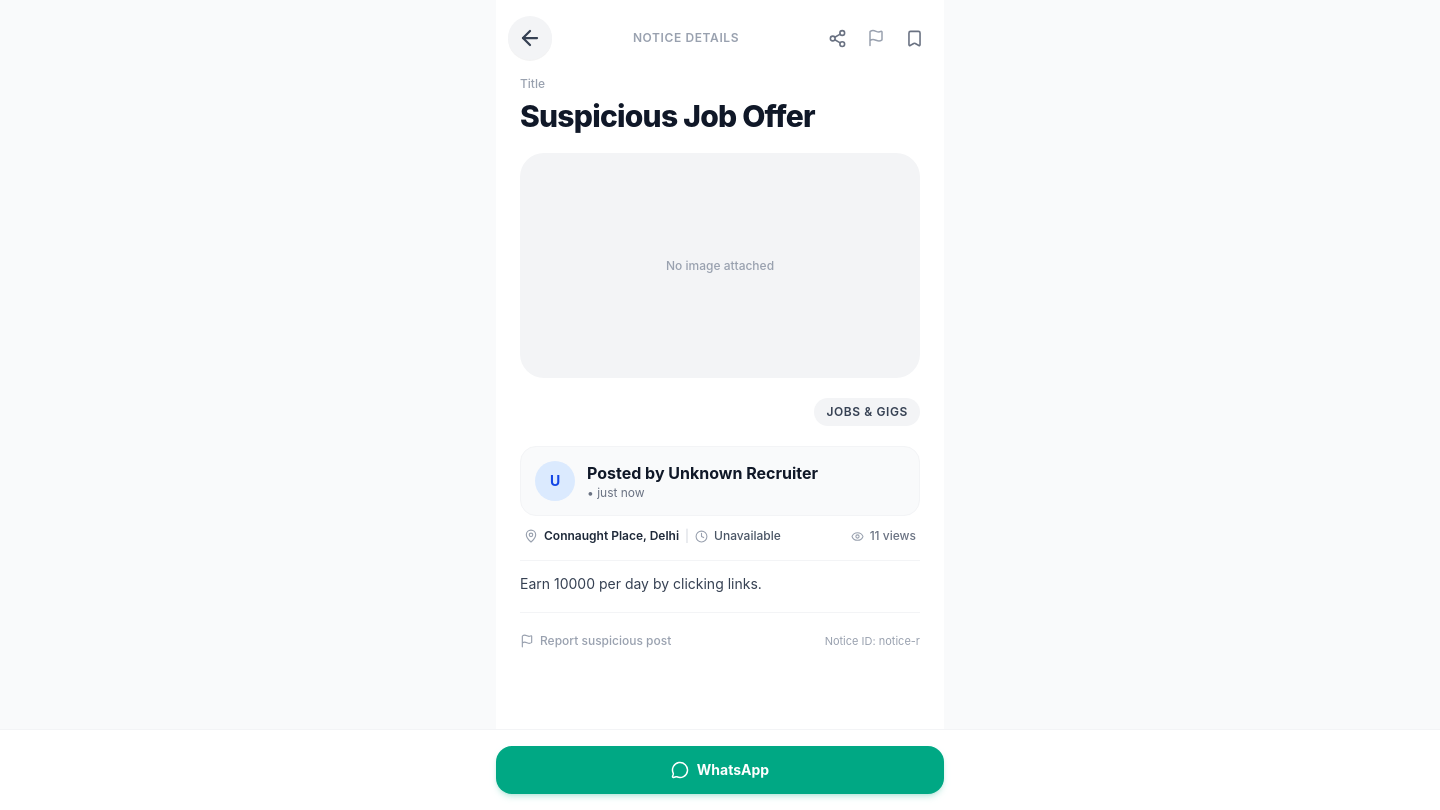
Test: NoticeDetails - View counting and RPC security › renders report button on notice page and opens report modal on click
expect the heading "Suspicious Job Offer" is shown: met, box top-left (520, 98), bottom-right (815, 134)
Click report button
What coordinates should you click on to do the following:
click the button named "report"
I would click on:
 (876, 38)
Its box is top-left (859, 21), bottom-right (893, 55).
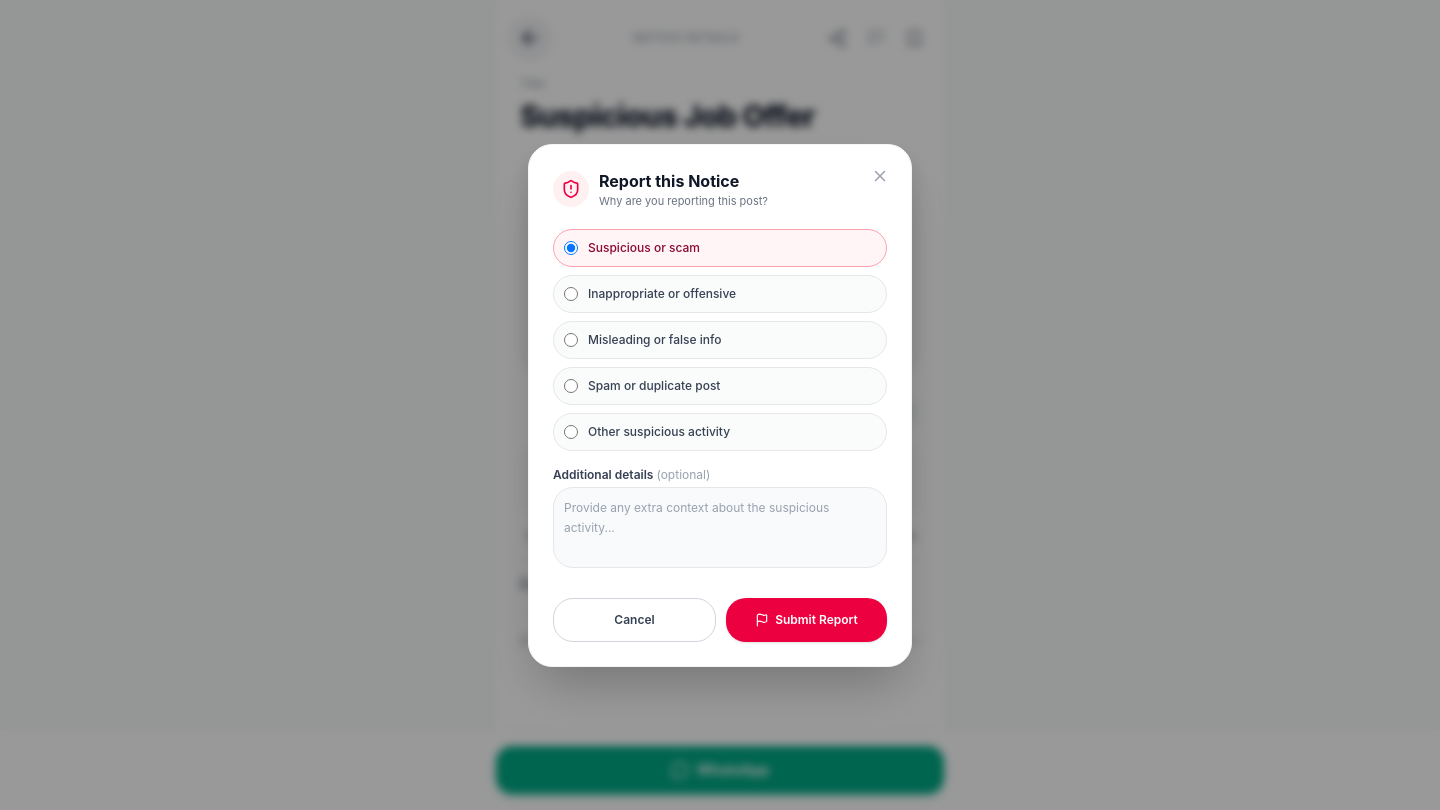
expect the dialog is shown: met
expect the heading "Report this Notice" is shown: met, box top-left (599, 170), bottom-right (739, 190)
expect the text "Suspicious or scam" is shown: met, box top-left (588, 240), bottom-right (700, 256)
Submit report
What coordinates should you click on to do the following:
click the button "Submit Report"
I would click on:
 (806, 620)
Its box is top-left (726, 598), bottom-right (887, 642).
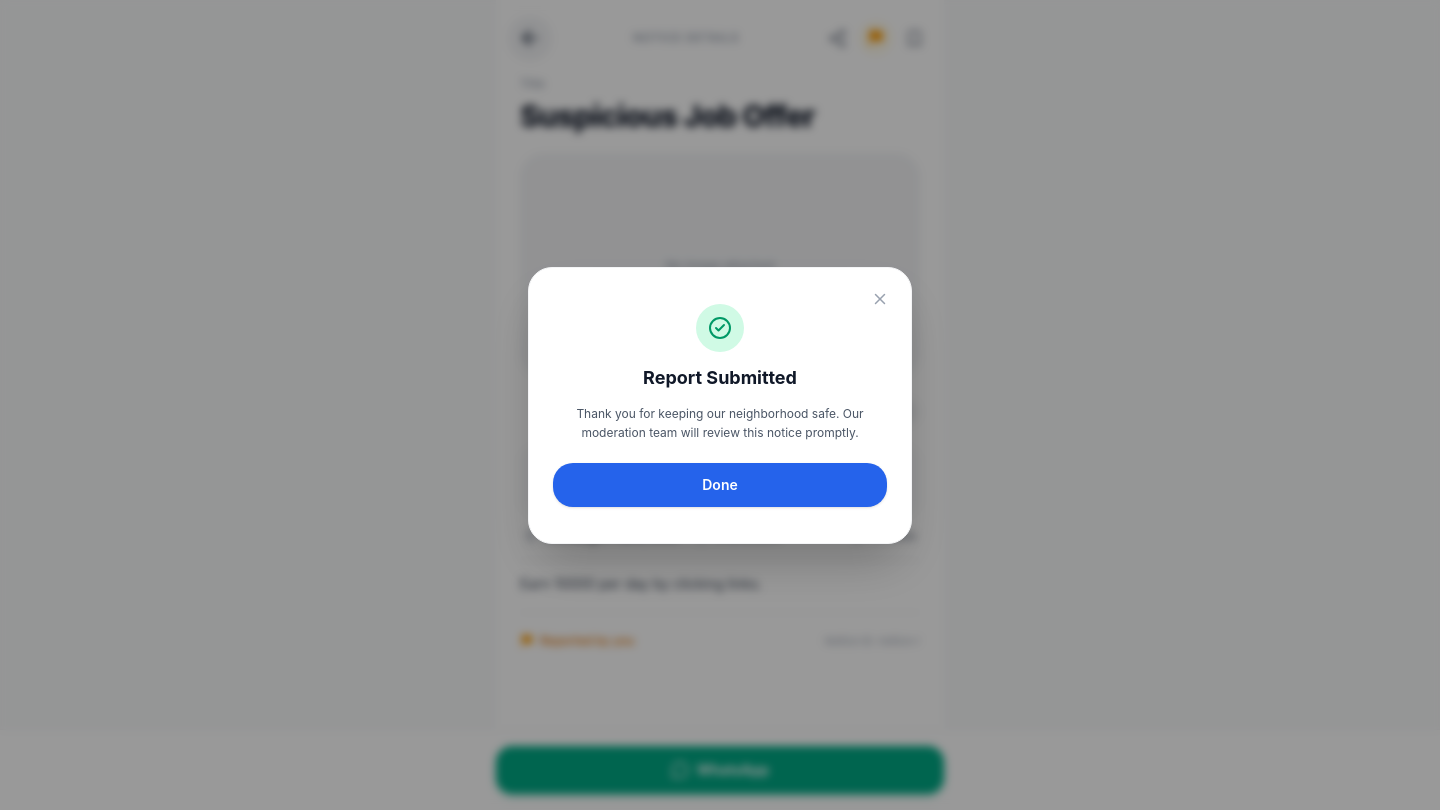
expect the heading "Report Submitted" is shown: met, box top-left (643, 366), bottom-right (797, 388)
expect the text "Thank you for keeping our neighborhood safe" is shown: met, box top-left (576, 406), bottom-right (864, 440)
